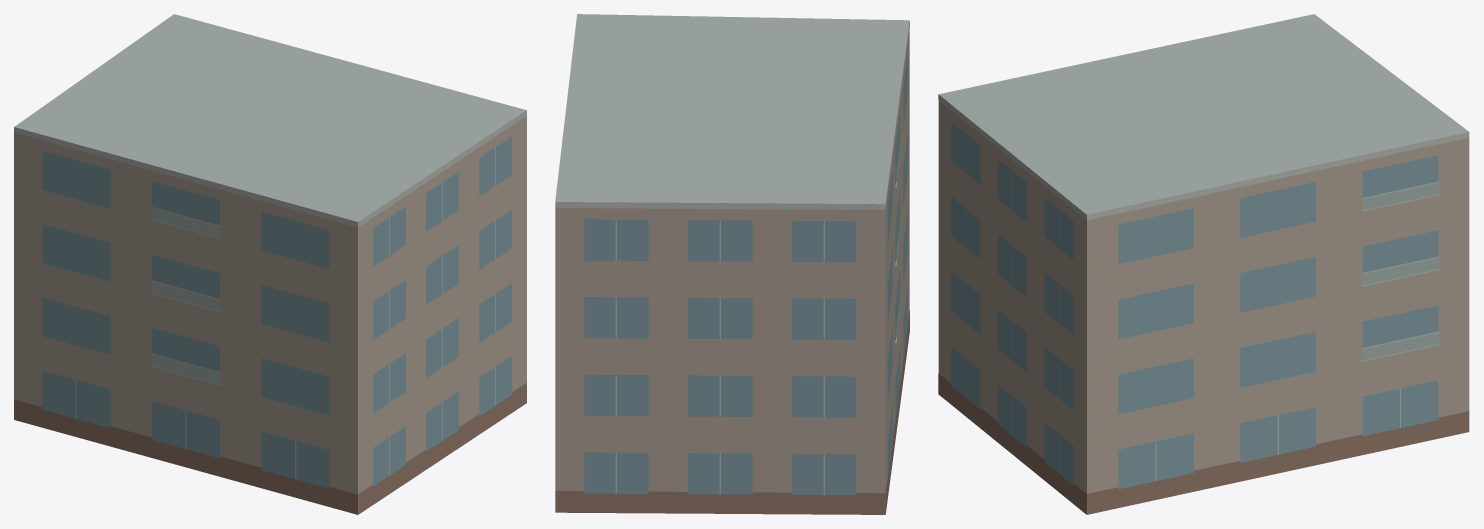
File: survey-upis-32780516.glb
3 renders of one model, left to right at view 1: azimuth 30°, elevation 25°; view 2: azimuth 150°, elevation 25°; view 3: azimuth 270°, elevation 25°, orthographic. The views are drawn at different scales.
Parts seen in each view (by area): view 1: survey-upis-32780516.tmp; view 2: survey-upis-32780516.tmp; view 3: survey-upis-32780516.tmp.
Boxes of the visible parts, left/top/right/bottom form: survey-upis-32780516.tmp: left=14, top=14, right=526, bottom=514; survey-upis-32780516.tmp: left=555, top=14, right=909, bottom=514; survey-upis-32780516.tmp: left=938, top=14, right=1469, bottom=514.
Bounding box in the file's own units: 18.38 × 12.8 × 20.53.
